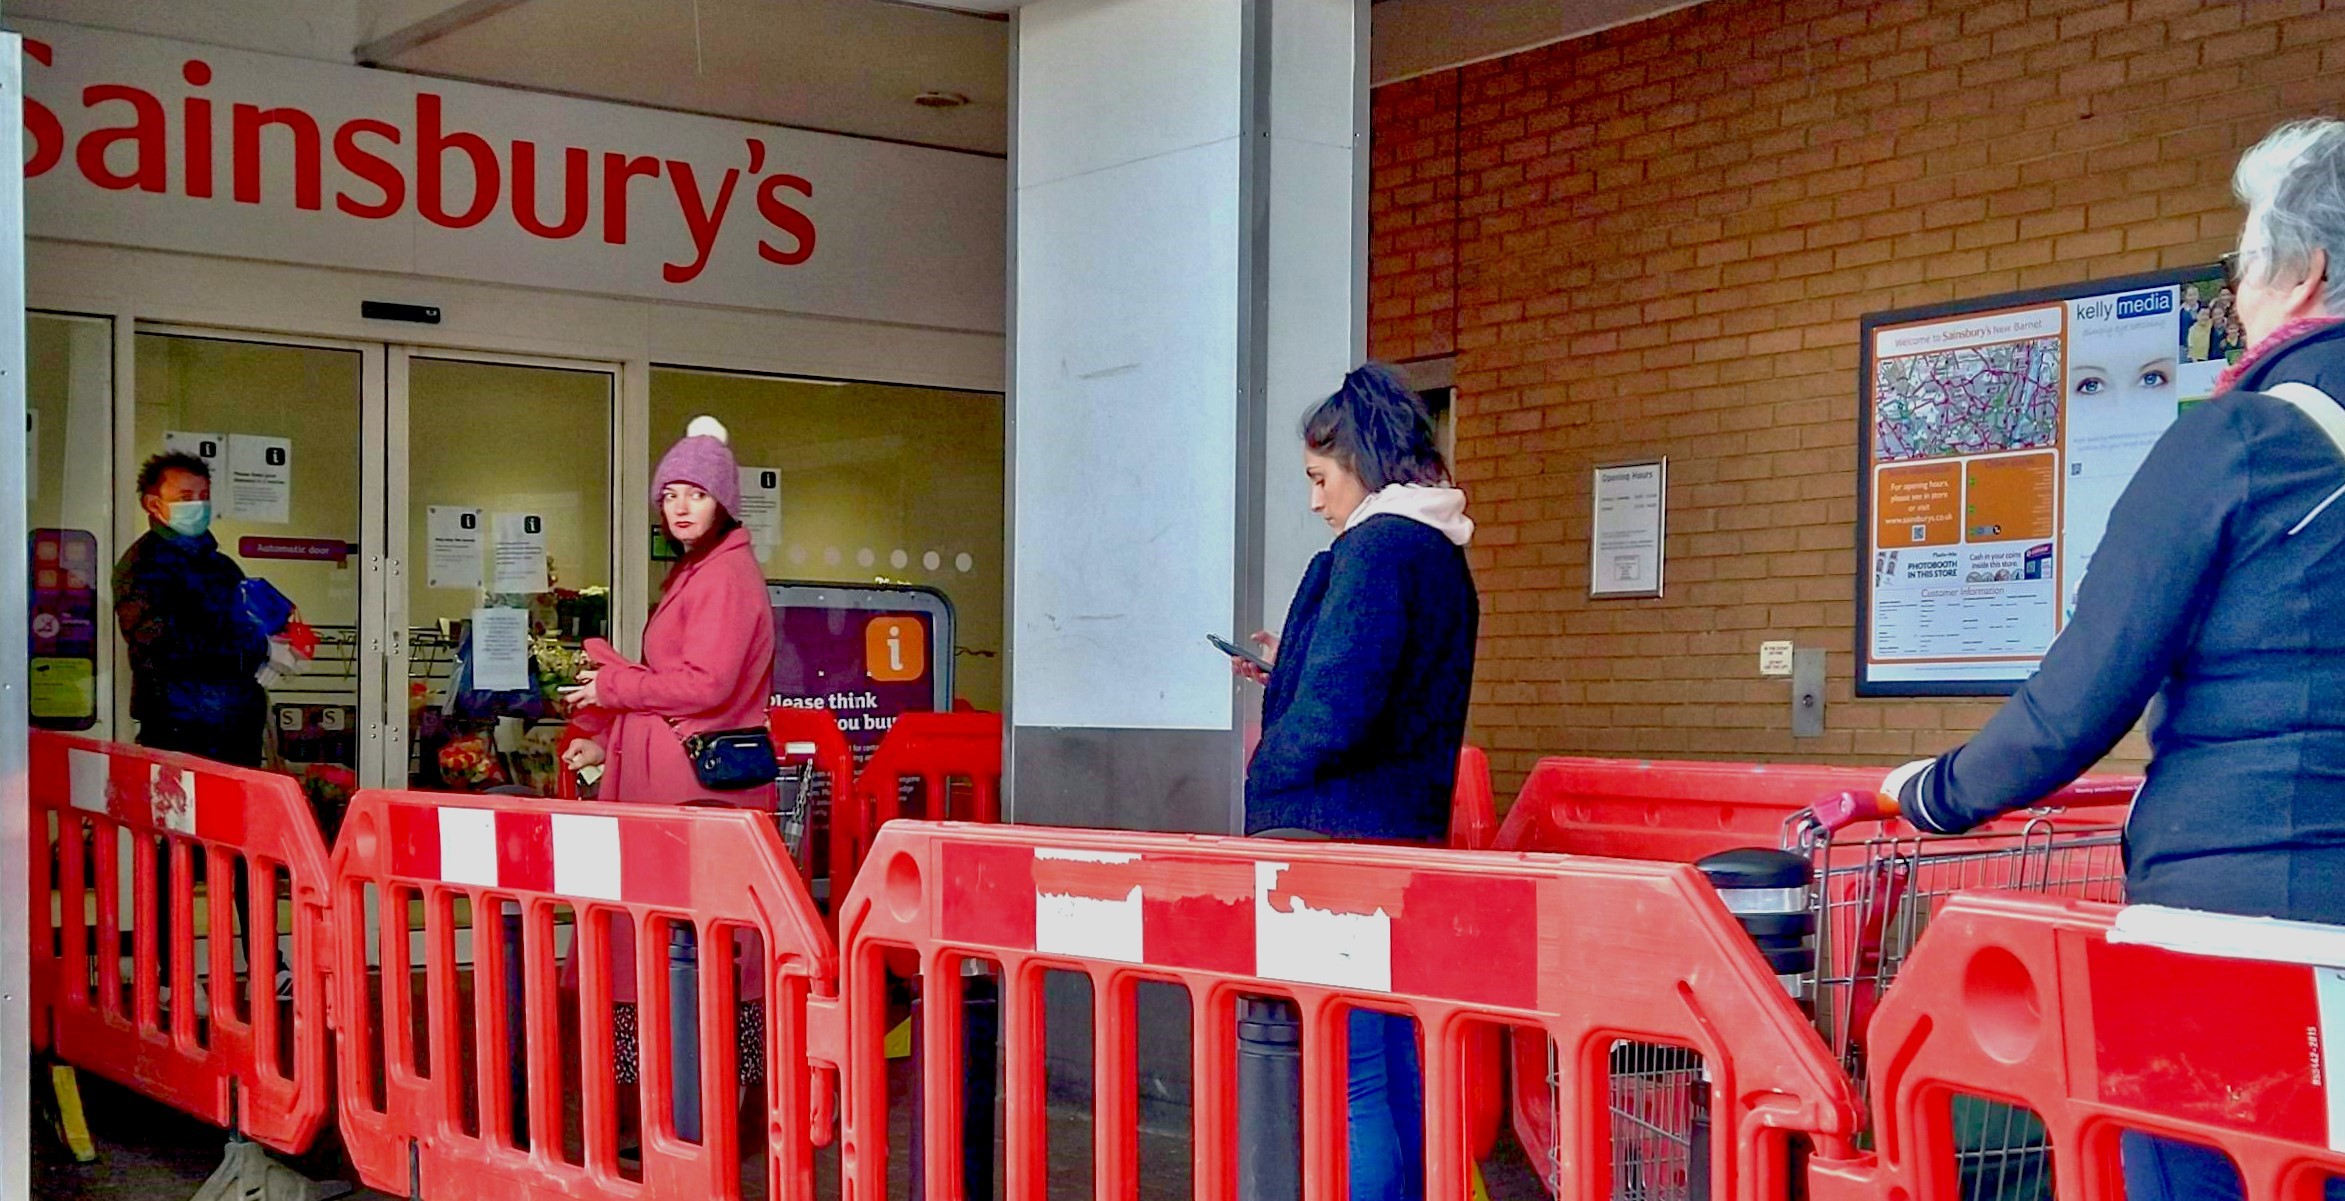Good: (1235, 116, 2345, 892), (551, 362, 1483, 826), (100, 406, 801, 790)
